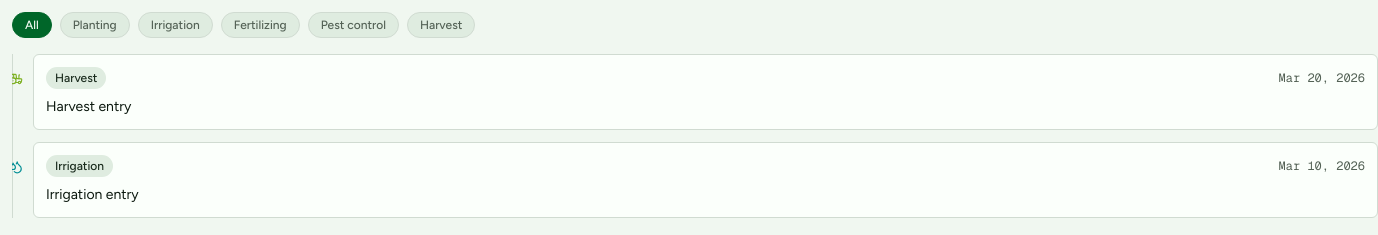
Scenario: ActivityTimeline › filters the timeline by activity type
Check: the text "Harvest entry" is shown, box [46,98,131,115]
Check: the text "Irrigation entry" is shown, box [46,186,139,203]
Click the button "Irrigation" at (175, 25), box [138,12,213,38]
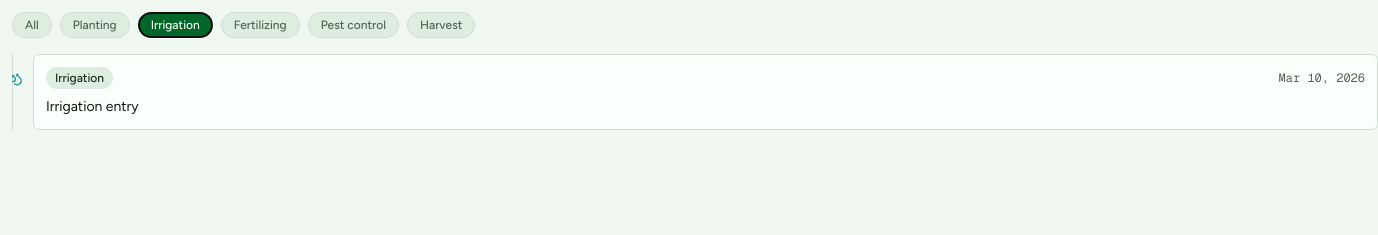
Check: the text "Irrigation entry" is shown, box [46,98,139,115]
Check: the text "Harvest entry" is gone
